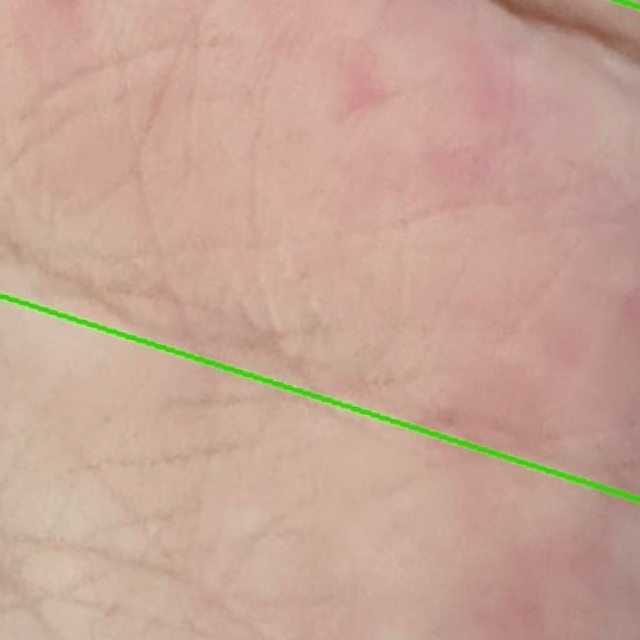Contact Dermatitis: (0, 0, 639, 504)
